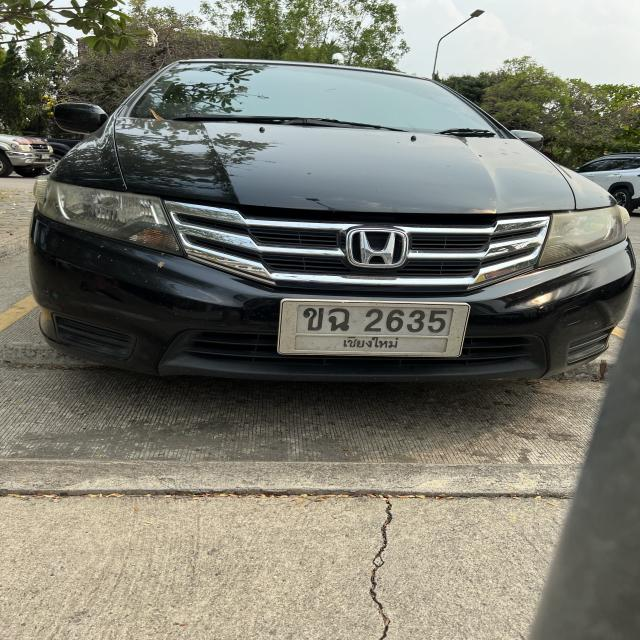license_plate: (276, 297, 470, 358)
